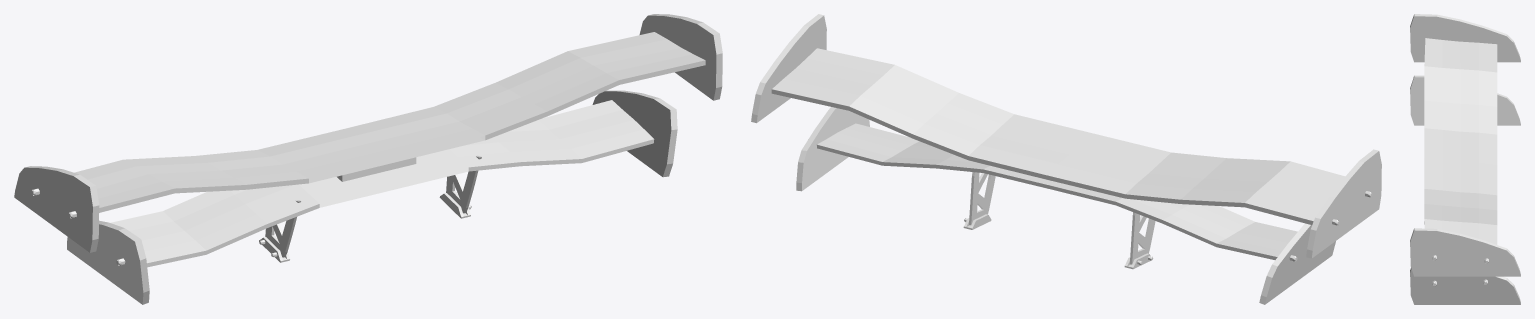
File: Spojler_dos.fbx
3 renders of one model, left to right at view 1: azimuth 30°, elevation 25°; view 2: azimuth 150°, elevation 25°; view 3: azimuth 270°, elevation 25°, orthographic. The views are drawn at different scales.
Parts seen in each view (by area): view 1: uploads_files_45765_2, uploads_files_45765_2.001; view 2: uploads_files_45765_2, uploads_files_45765_2.001; view 3: uploads_files_45765_2, uploads_files_45765_2.001.
Boxes of the visible parts, x1,y1,x2,y2 form: uploads_files_45765_2: [31, 32, 705, 267]; uploads_files_45765_2.001: [14, 14, 722, 304]; uploads_files_45765_2: [771, 48, 1372, 269]; uploads_files_45765_2.001: [751, 14, 1381, 304]; uploads_files_45765_2: [1424, 38, 1497, 286]; uploads_files_45765_2.001: [1410, 14, 1520, 304].
Bounding box in the file's own units: 199 × 45.56 × 42.33.
